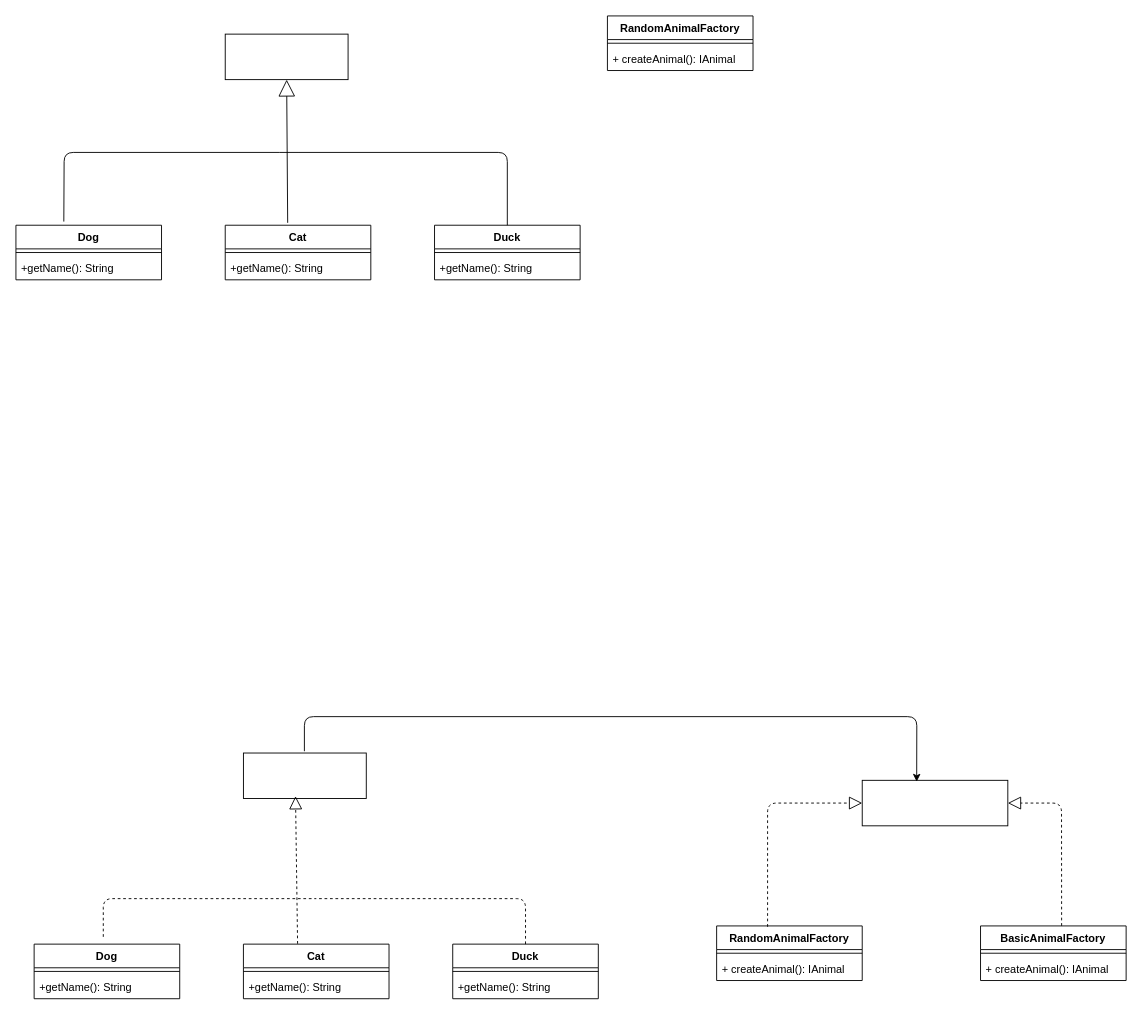
The diagram is 1142 pixels wide and 1017 high, and some of its shapes have lost their labels. The shapes that lost their labels are listed below. From the top down, each one's centre as x and y in pixels, then its label:
the point at 286,56: Animal +getName(): String
the point at 304,775: «interface» Animal +getName(): String
the point at 934,802: «interface» AnimalFactory + createAnimal(): IAnimal
